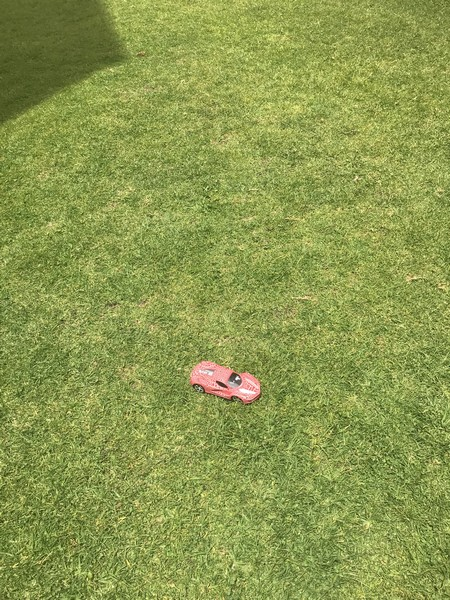RC: (186, 357, 263, 406)
